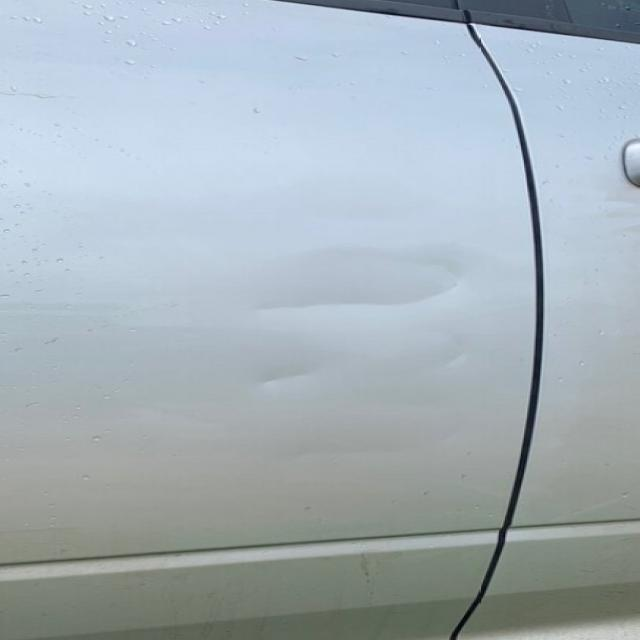dents: (254, 265, 484, 314), (240, 348, 369, 411), (416, 350, 508, 382)
